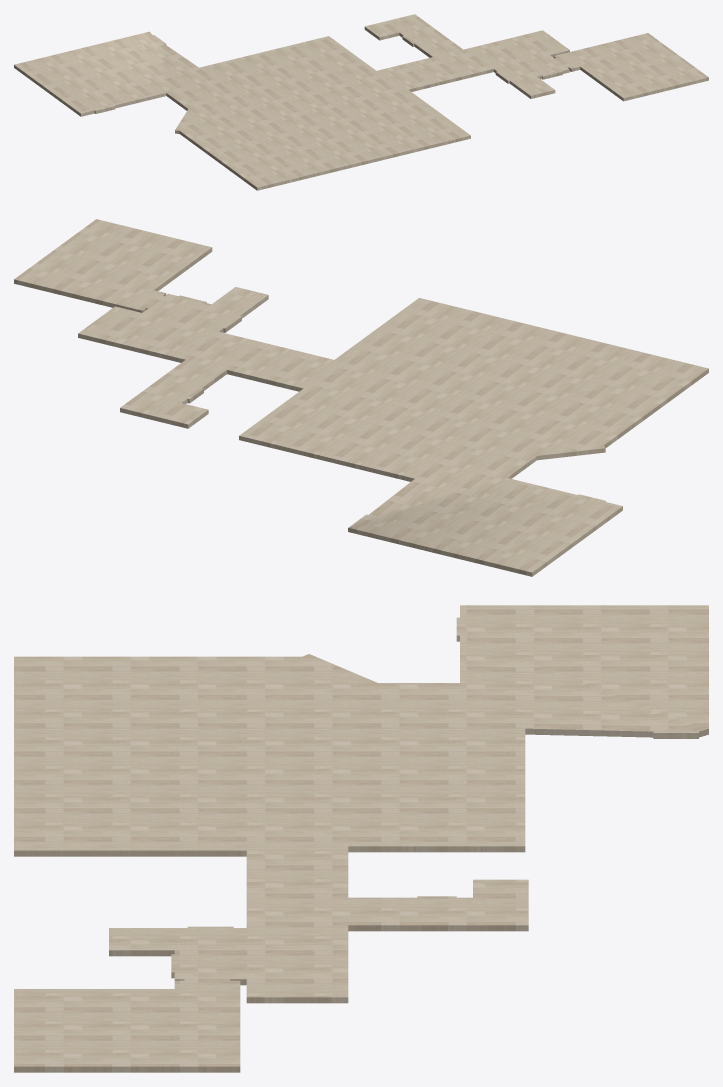
The model's file is 1989_kitchen_Floor_LaytonLakeSilverDollar.gltf.
3 views of the same model, one above another, from view 1: azimuth 30°, elevation 25°; view 2: azimuth 150°, elevation 25°; view 3: azimuth 270°, elevation 25° (orthographic). The views are drawn at different scales.
Parts seen in each view (by area): view 1: Floors_Layton_lake_silver_dollar; view 2: Floors_Layton_lake_silver_dollar; view 3: Floors_Layton_lake_silver_dollar.
Boxes of the visible parts, box(x1,y1,x2,y2) form: Floors_Layton_lake_silver_dollar: box(14, 14, 708, 190); Floors_Layton_lake_silver_dollar: box(14, 219, 708, 576); Floors_Layton_lake_silver_dollar: box(14, 605, 708, 1072).
Size of the model in its own units: 33.3 by 0.3 by 21.2.
1 material, 1 textured.
